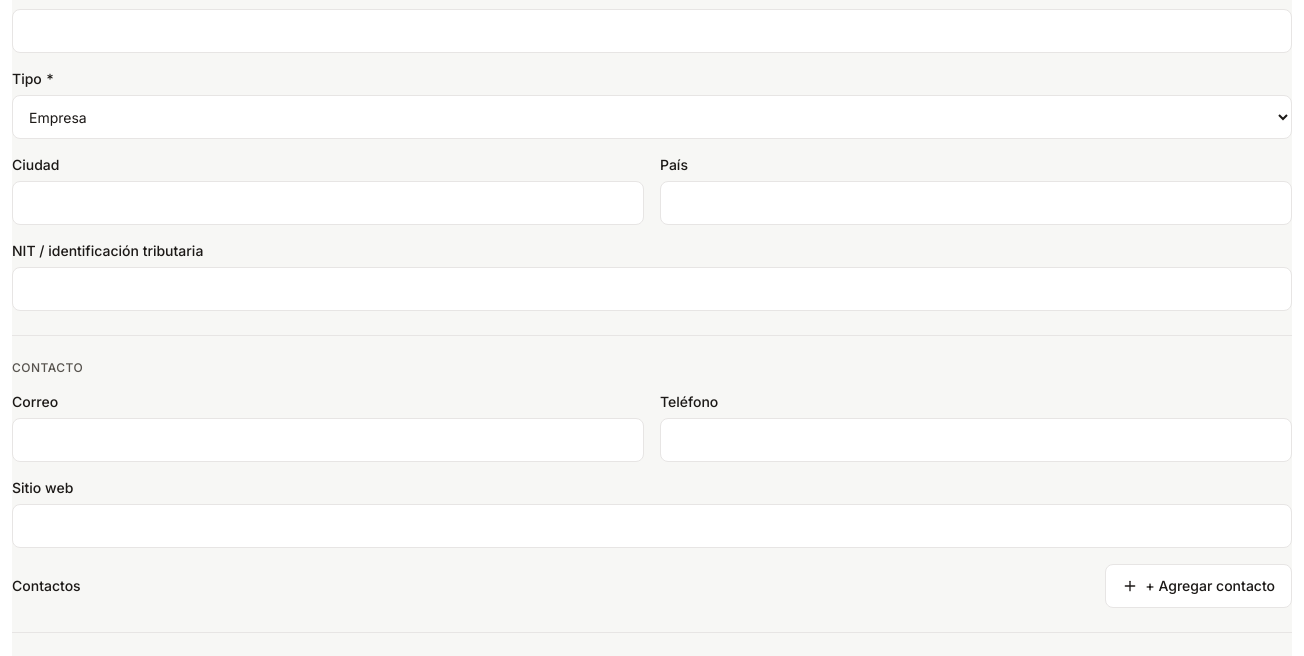
HU-01.2 mensajes traducidos en el formulario › muestra el error de contacto principal
Type "Nuevo Cliente" into the field labelled "Nombre *" at point(652, 31), box [12,9,1292,53]
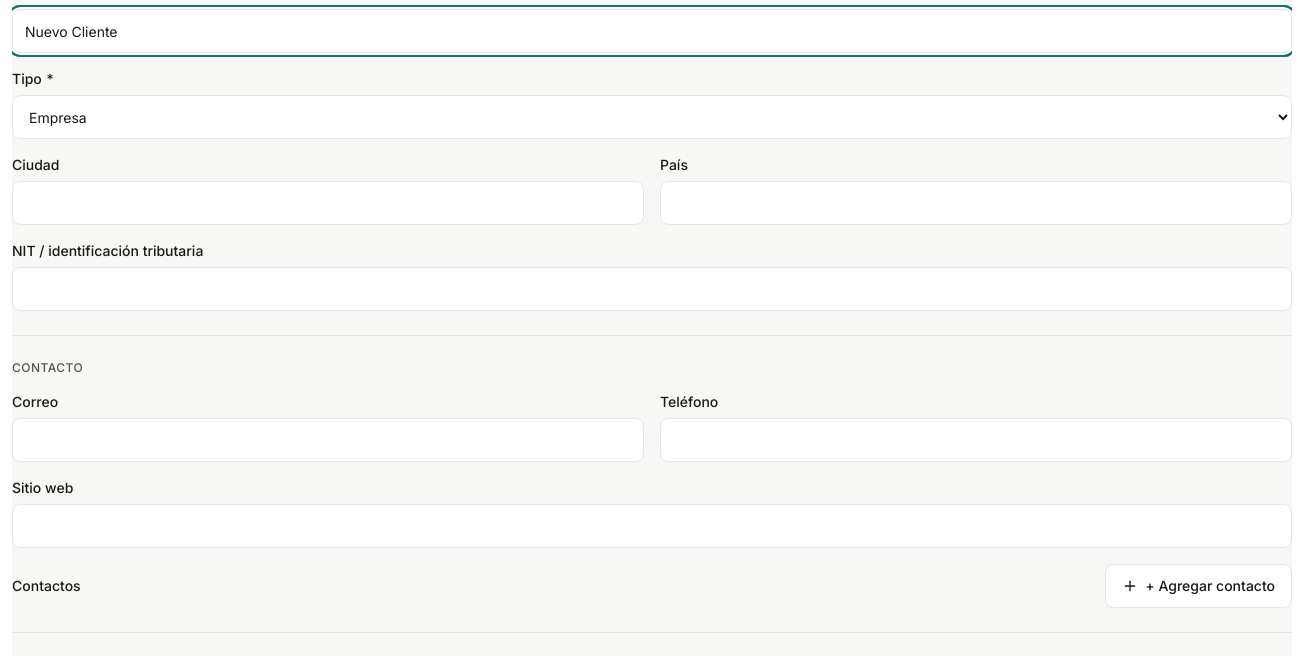
Click the button "+ Agregar contacto" at point(1198, 586), box [1105,564,1292,608]
(page scrolled)
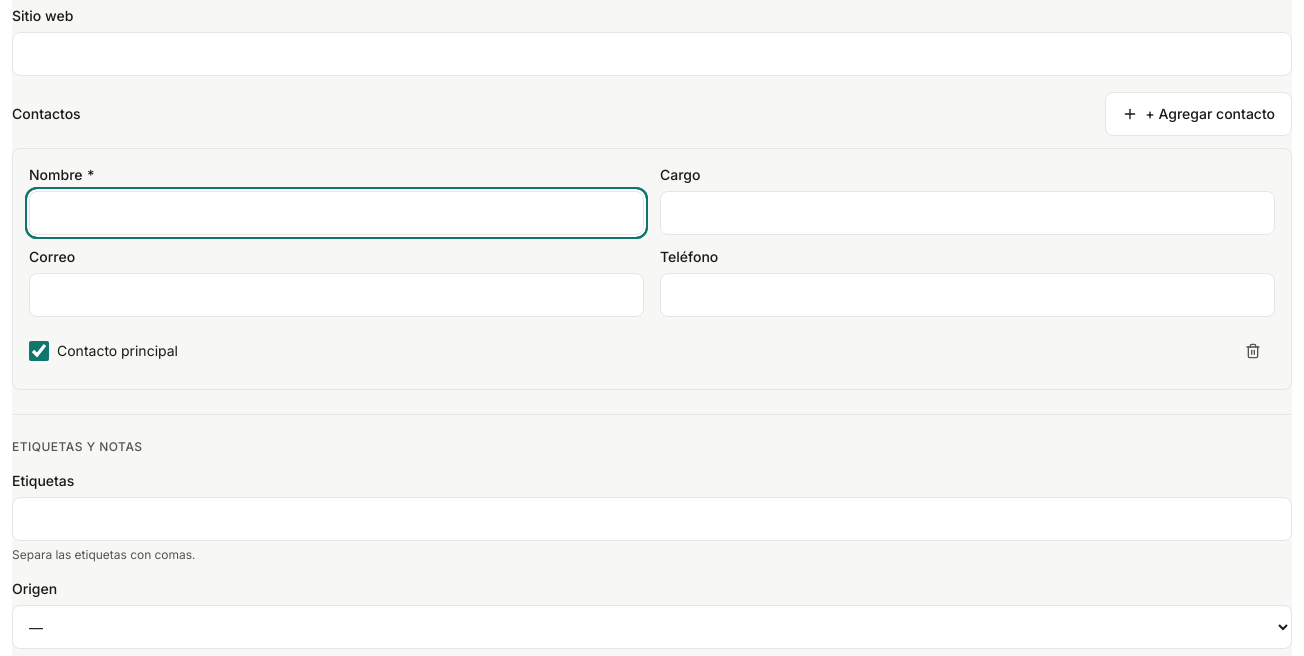
Click the checkbox at point(39, 351), box [29,341,49,361]
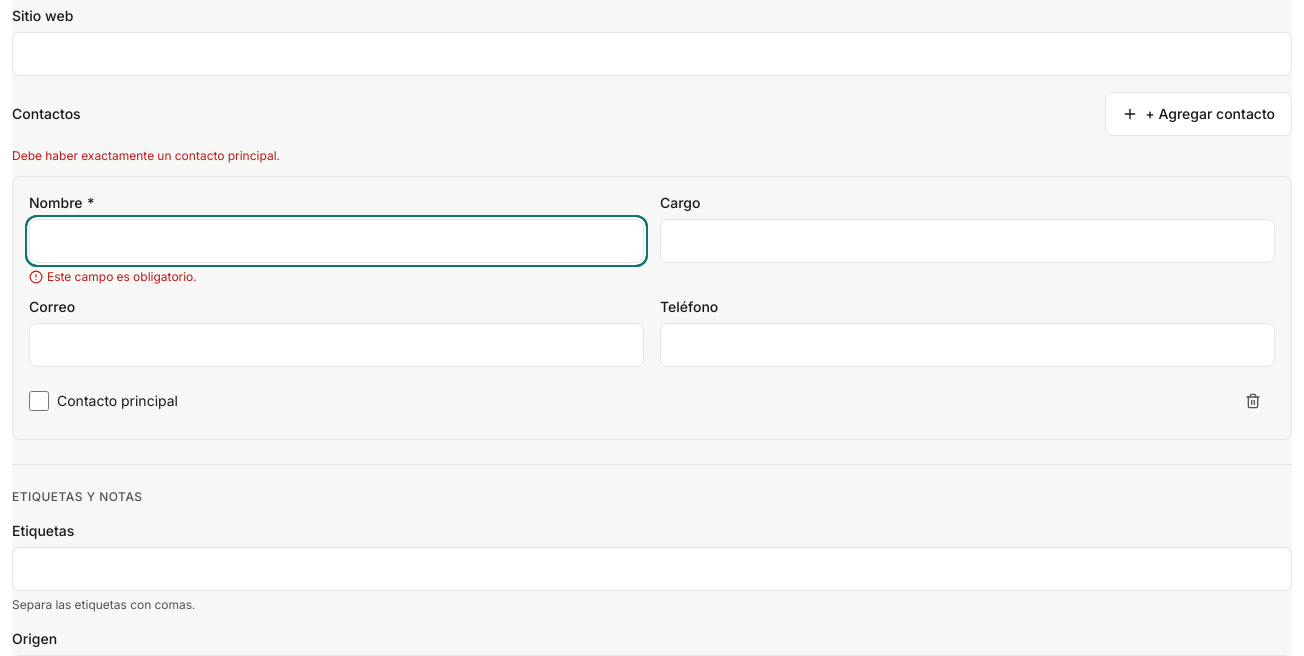
Expected: the text "Debe haber exactamente un contacto principal." is shown, [12,148,280,163]
